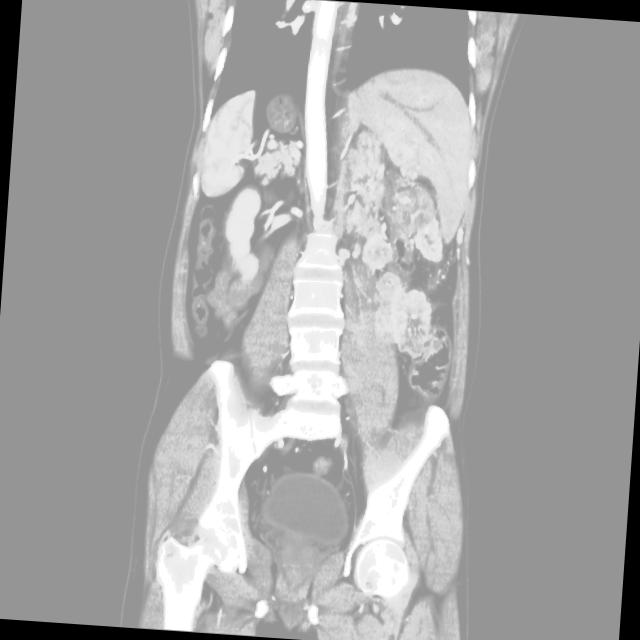TUMOR: (102, 182, 509, 519)
